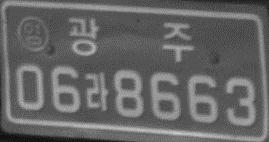0: (15, 64, 44, 110)
3: (224, 76, 256, 127)
6: (148, 70, 181, 121), (187, 73, 219, 124), (50, 65, 81, 113)
8: (112, 68, 145, 118)
광주_D: (68, 17, 193, 64)
라: (83, 70, 110, 112)
영: (17, 15, 50, 52)
